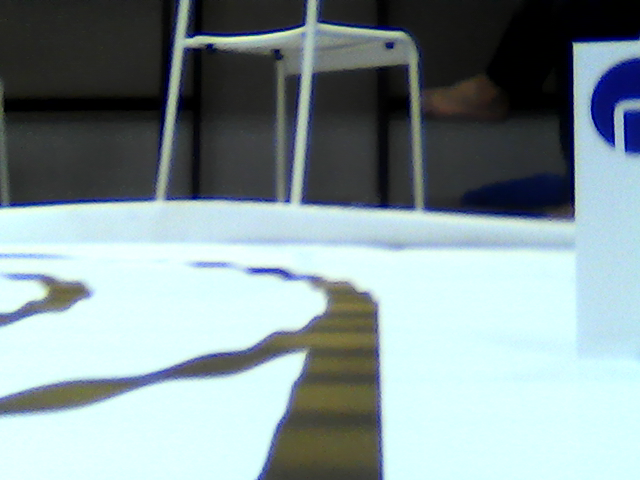Right: (591, 54, 640, 157)
